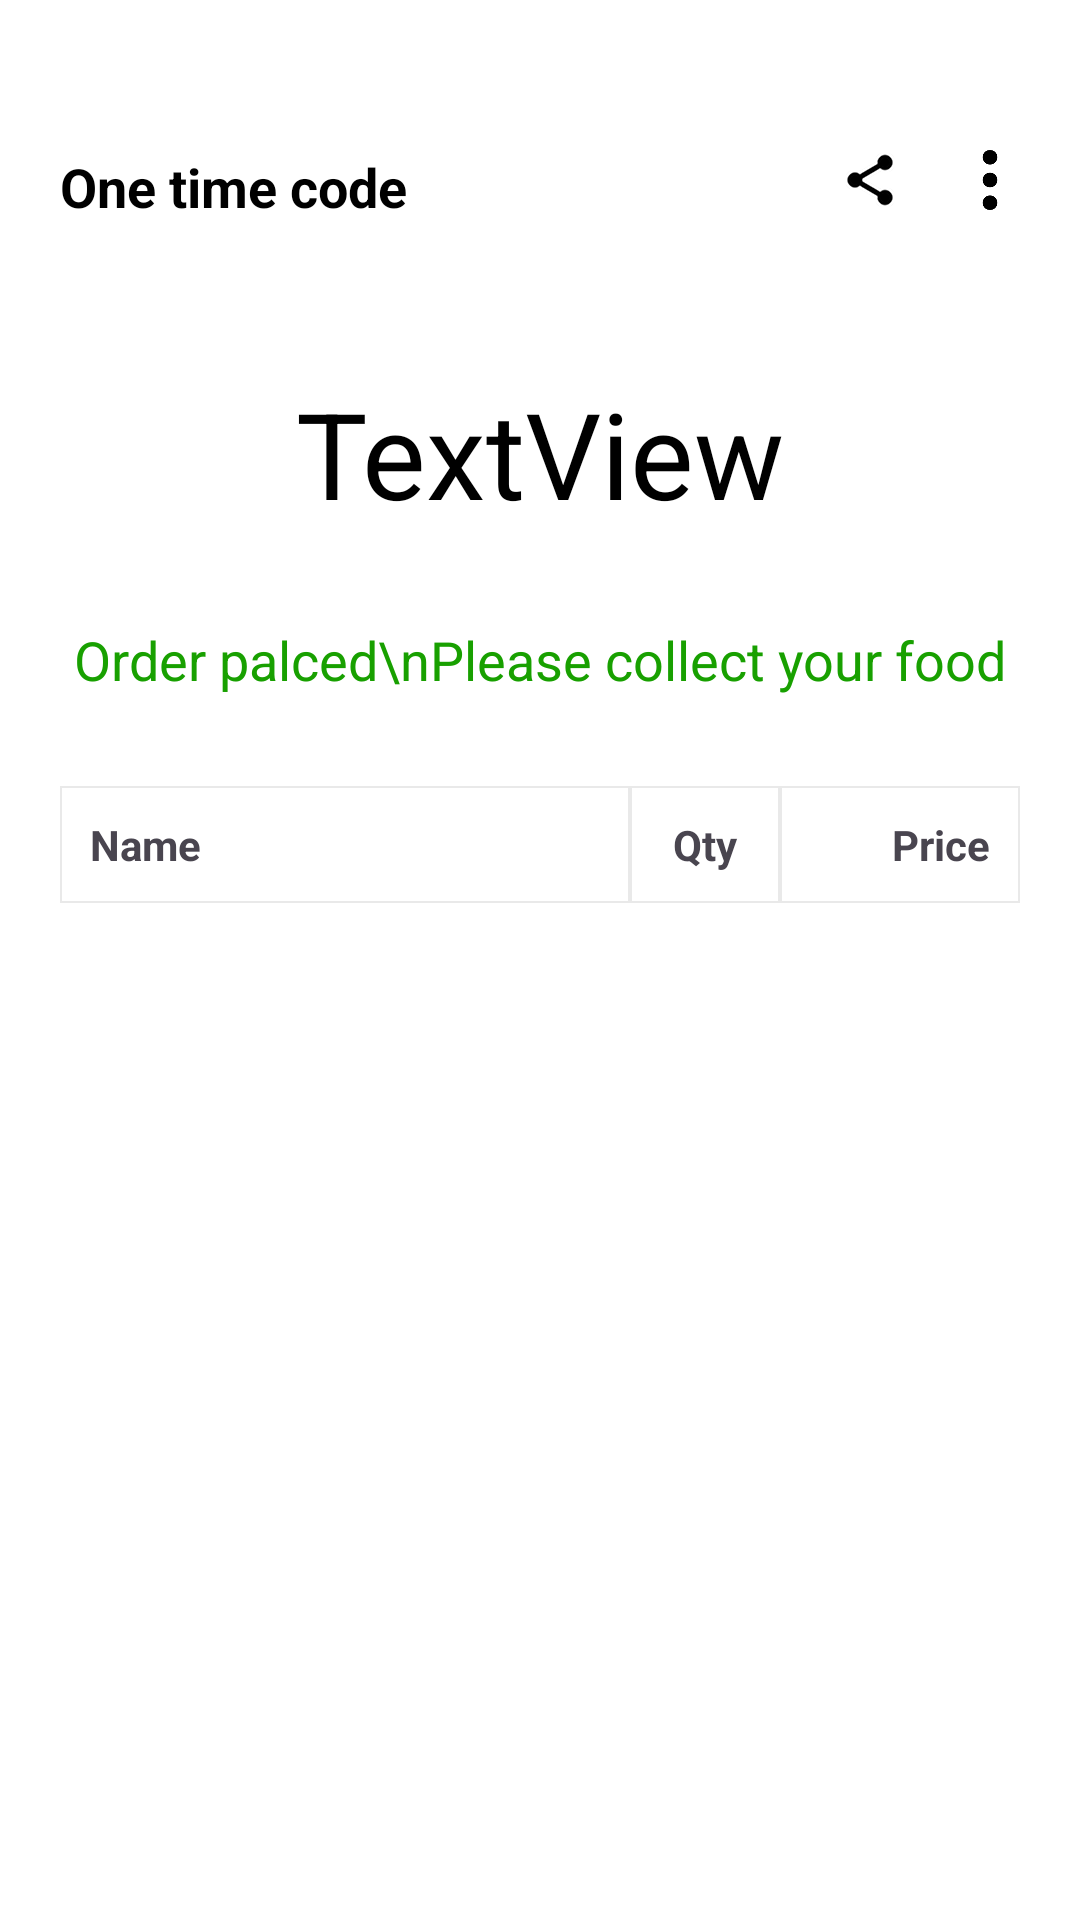

Icon bounding boxes for this 1080x1920 phone screenshot, format region(x1, y1, x2, y2):
menu: region(982, 150, 998, 210)
share: region(847, 154, 893, 206)
